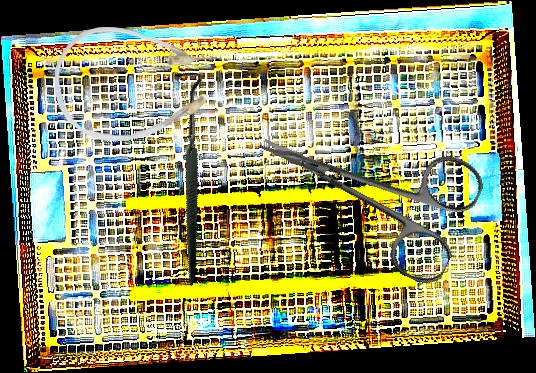Cannula: (55, 27, 217, 141)
Hook Surgical: (91, 63, 282, 287)
Iris Scissors: (237, 80, 491, 291)
